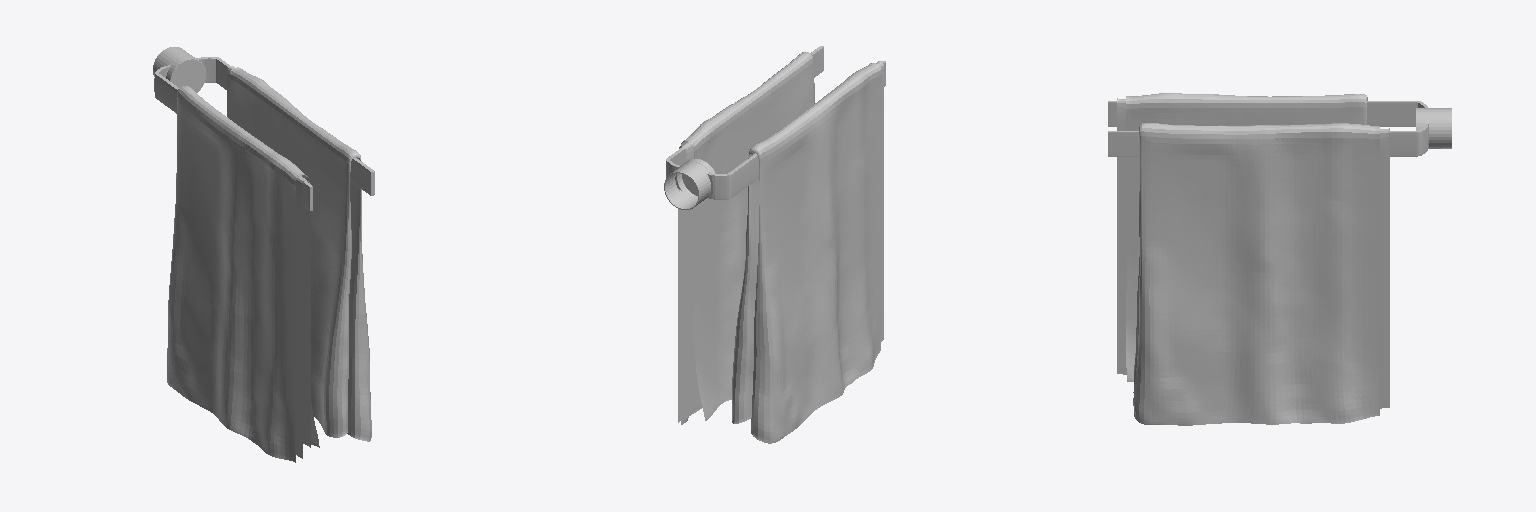
File: BathroomTowels.obj
3 renders of one model, left to right at view 1: azimuth 30°, elevation 25°; view 2: azimuth 150°, elevation 25°; view 3: azimuth 270°, elevation 25°, orthographic.
Parts seen in each view (by area): view 1: Arch_056_2, Arch_056_0, Arch_056_1; view 2: Arch_056_2, Arch_056_0, Arch_056_1; view 3: Arch_056_0, Arch_056_2, Arch_056_1.
Part boxes in pixels (bbox=[...]): Arch_056_2: bbox=[167, 86, 319, 462]; Arch_056_0: bbox=[227, 66, 371, 441]; Arch_056_1: bbox=[153, 47, 374, 210]; Arch_056_2: bbox=[732, 61, 883, 443]; Arch_056_0: bbox=[678, 52, 814, 424]; Arch_056_1: bbox=[664, 46, 885, 209]; Arch_056_0: bbox=[1133, 123, 1389, 425]; Arch_056_2: bbox=[1117, 93, 1367, 381]; Arch_056_1: bbox=[1108, 101, 1451, 156].
Size of the model in its own units: 0.5527 by 1.53 by 1.62.